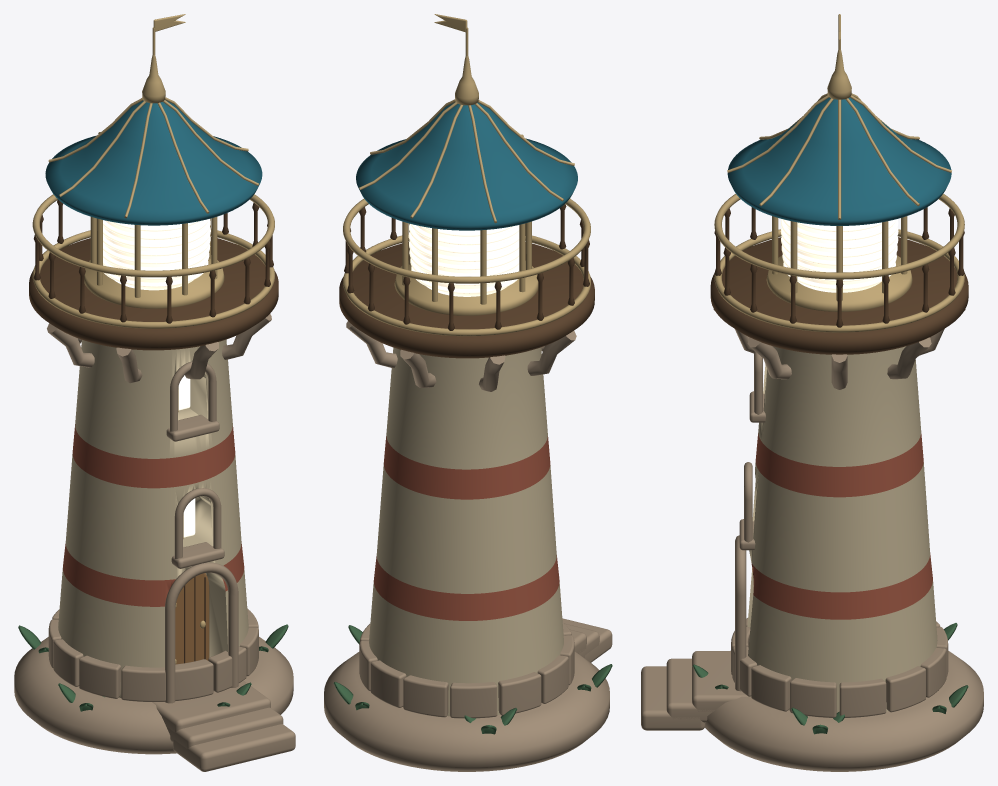
The model's file is lighthouse_atelier.glb.
3 renders of one model, left to right at view 1: azimuth 30°, elevation 25°; view 2: azimuth 150°, elevation 25°; view 3: azimuth 270°, elevation 25°, orthographic. The views are drawn at different scales.
Parts seen in each view (by area): view 1: lighthouse_atelier__TaggedPainted_Beacon_Matte, lighthouse_atelier__Painted_Beacon_Glaze, lighthouse_atelier__Painted_Beacon_Metal, lighthouse_atelier__Painted_Beacon_Glow; view 2: lighthouse_atelier__TaggedPainted_Beacon_Matte, lighthouse_atelier__Painted_Beacon_Glaze, lighthouse_atelier__Painted_Beacon_Metal, lighthouse_atelier__Painted_Beacon_Glow; view 3: lighthouse_atelier__TaggedPainted_Beacon_Matte, lighthouse_atelier__Painted_Beacon_Glaze, lighthouse_atelier__Painted_Beacon_Metal, lighthouse_atelier__Painted_Beacon_Glow.
Boxes of the visible parts, x1,y1,x2,y2 form: lighthouse_atelier__TaggedPainted_Beacon_Matte: (14,199,295,771); lighthouse_atelier__Painted_Beacon_Glaze: (45,100,262,225); lighthouse_atelier__Painted_Beacon_Metal: (32,14,274,663); lighthouse_atelier__Painted_Beacon_Glow: (103,219,210,537); lighthouse_atelier__TaggedPainted_Beacon_Matte: (324,204,612,771); lighthouse_atelier__Painted_Beacon_Glaze: (356,102,577,230); lighthouse_atelier__Painted_Beacon_Metal: (343,14,590,336); lighthouse_atelier__Painted_Beacon_Glow: (408,224,519,296); lighthouse_atelier__TaggedPainted_Beacon_Matte: (641,207,983,771); lighthouse_atelier__Painted_Beacon_Glaze: (727,97,951,225); lighthouse_atelier__Painted_Beacon_Metal: (714,14,964,332); lighthouse_atelier__Painted_Beacon_Glow: (780,219,898,292).
Bounding box in the file's own units: 1.49 × 3.92 × 1.74.
